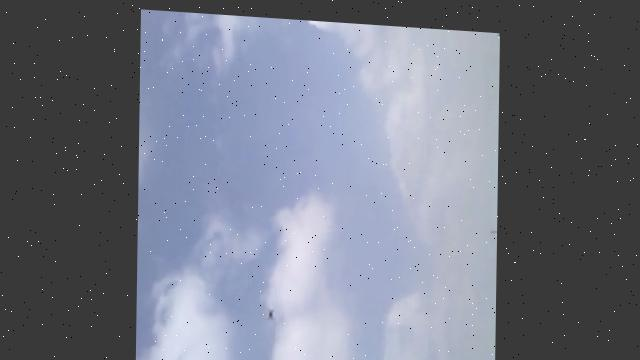drone: (264, 304, 277, 317)
